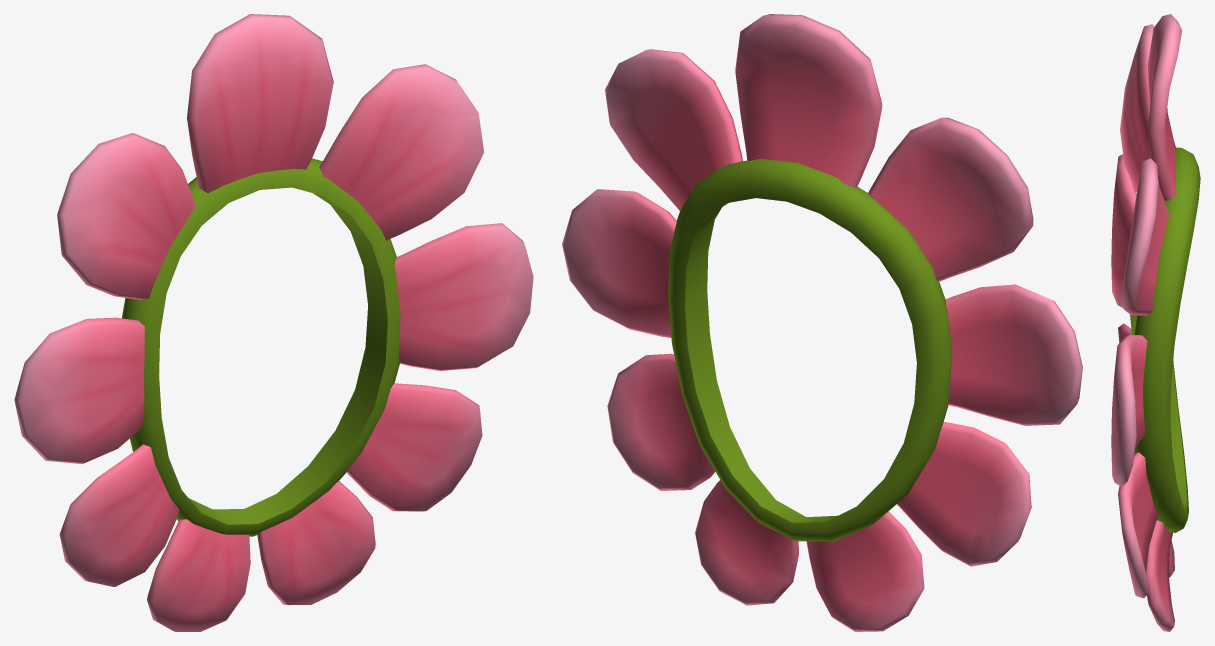
3 renders of one model, left to right at view 1: azimuth 30°, elevation 25°; view 2: azimuth 150°, elevation 25°; view 3: azimuth 270°, elevation 25°, orthographic. The views are drawn at different scales.
Visible parts, largest first — view 1: model_15; view 2: model_15; view 3: model_15.
Part boxes in pixels (x1,y1,x2,y2): model_15: [14, 14, 533, 631]; model_15: [562, 14, 1082, 631]; model_15: [1111, 14, 1200, 631].
Size of the model in its own units: 1.53 by 1.7 by 0.2387.
1 material, 1 textured.
